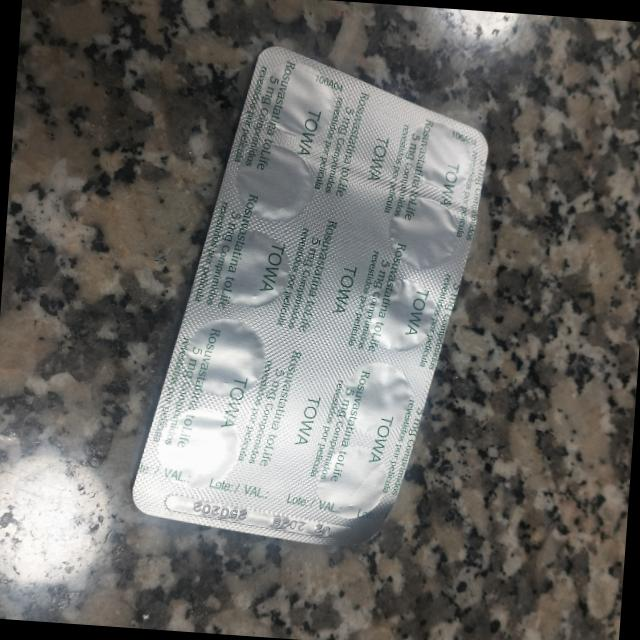blister: (127, 43, 488, 549)
